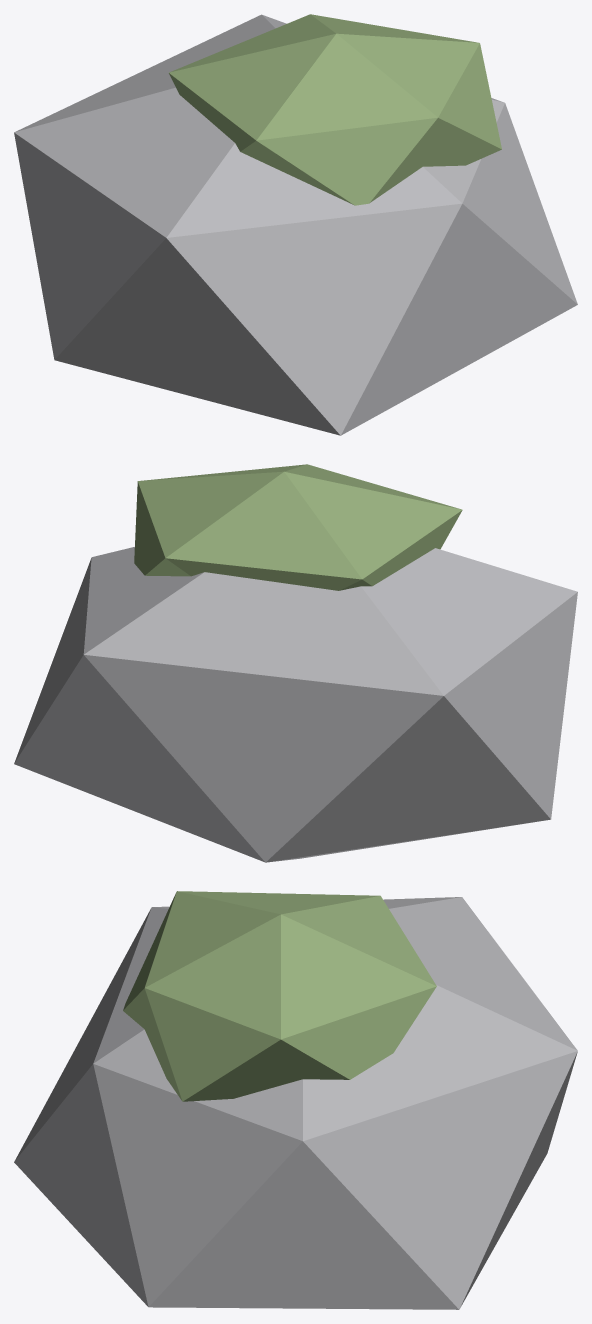
The model's file is rock.fbx.
The picture shows the model from 3 angles, top to bottom: view 1: azimuth 30°, elevation 25°; view 2: azimuth 150°, elevation 25°; view 3: azimuth 270°, elevation 25°; orthographic projection. The views are drawn at different scales.
Visible parts, largest first — view 1: rock; view 2: rock; view 3: rock.
Part boxes in pixels (x1,y1,x2,y2): rock: (14,14,577,435); rock: (14,464,577,862); rock: (14,891,577,1309).
Size of the model in its own units: 0.5223 by 0.401 by 0.5121.
